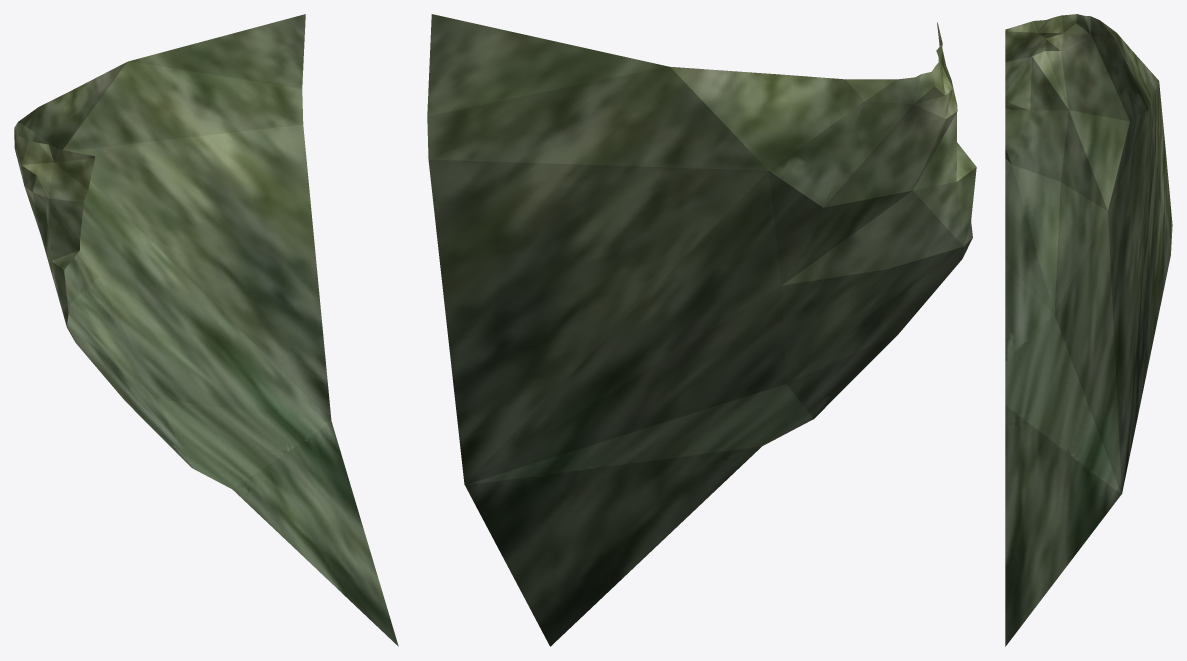
3 views of the same model, side by side, from view 1: azimuth 30°, elevation 25°; view 2: azimuth 150°, elevation 25°; view 3: azimuth 270°, elevation 25° (orthographic). The views are drawn at different scales.
Size of the model in its own units: 1.69 by 2.66 by 0.8237.
2 materials, 2 textured.
